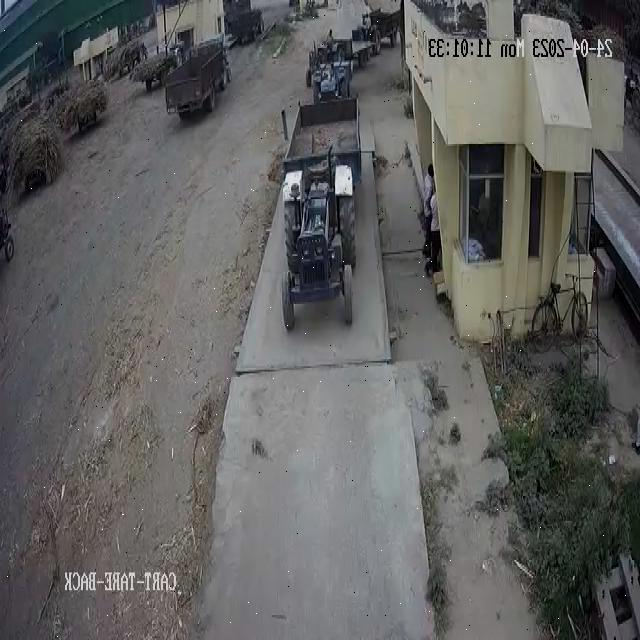Tratores - v5 YOLO V8L 2024-11-13: (277, 154, 358, 336), (302, 56, 354, 105)
